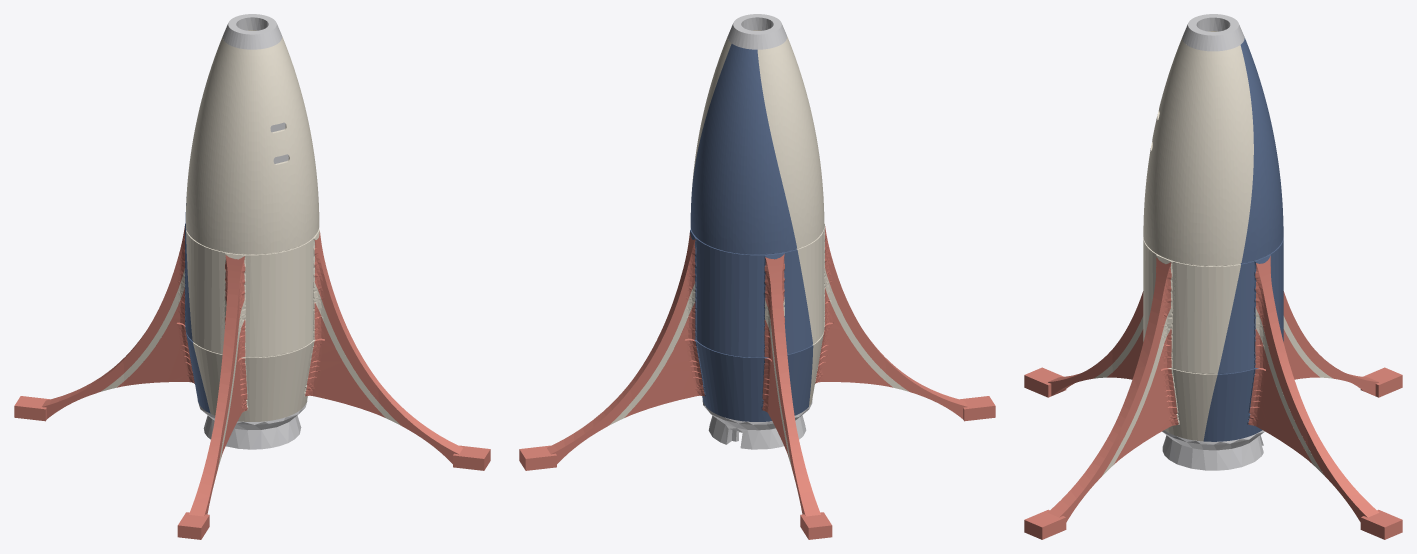
File: rocket_d2.glb
3 renders of one model, left to right at view 1: azimuth 30°, elevation 25°; view 2: azimuth 150°, elevation 25°; view 3: azimuth 270°, elevation 25°, orthographic. The views are drawn at different scales.
Visible parts, largest first — view 1: CreamNose, Vermilion, Cream, NickelCap, NickelNose, Navy; view 2: Vermilion, Navy, NavyNose, CreamNose, Cream, NickelCap, NickelNose; view 3: Vermilion, CreamNose, Cream, Navy, NavyNose, NickelCap, NickelNose.
Part boxes in pixels (x1=…): CreamNose: x1=186, y1=30, x2=319, y2=253; Vermilion: x1=14, y1=226, x2=490, y2=539; Cream: x1=100, y1=228, x2=401, y2=469; NickelCap: x1=197, y1=400, x2=307, y2=449; NickelNose: x1=222, y1=14, x2=288, y2=163; Navy: x1=185, y1=223, x2=210, y2=413; Vermilion: x1=519, y1=226, x2=995, y2=539; Navy: x1=690, y1=228, x2=813, y2=421; NavyNose: x1=690, y1=44, x2=796, y2=253; CreamNose: x1=691, y1=30, x2=824, y2=248; Cream: x1=608, y1=223, x2=909, y2=469; NickelCap: x1=702, y1=399, x2=812, y2=449; NickelNose: x1=727, y1=14, x2=787, y2=49; Vermilion: x1=1024, y1=256, x2=1402, y2=539; CreamNose: x1=1143, y1=31, x2=1253, y2=265; Cream: x1=1094, y1=237, x2=1332, y2=475; Navy: x1=1203, y1=238, x2=1283, y2=441; NavyNose: x1=1240, y1=38, x2=1283, y2=263; NickelCap: x1=1162, y1=430, x2=1264, y2=470; NickelNose: x1=1182, y1=14, x2=1244, y2=51.
Size of the model in its own units: 0.1782 by 0.226 by 0.1782.
